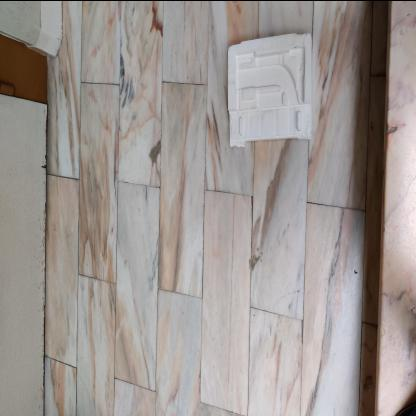diger: (226, 26, 314, 150)
